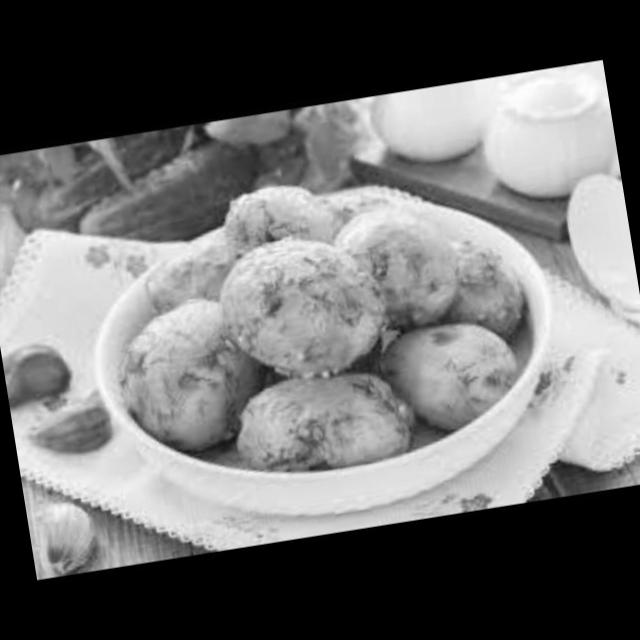cucumber: (49, 111, 287, 268), (5, 125, 197, 233)
garlic: (18, 384, 114, 466), (25, 488, 104, 578), (0, 332, 84, 410)
potato: (102, 284, 272, 468), (218, 225, 399, 389), (226, 347, 424, 492), (376, 297, 539, 450), (321, 188, 467, 336), (400, 215, 532, 349), (210, 164, 350, 270), (125, 232, 262, 328)
